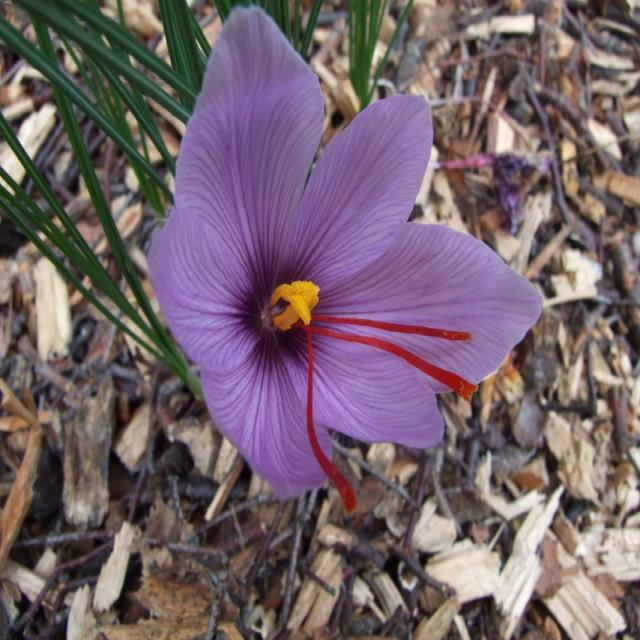Flower: (151, 4, 544, 497)
stigma: (305, 325, 479, 404), (303, 326, 357, 520), (310, 313, 476, 346)
